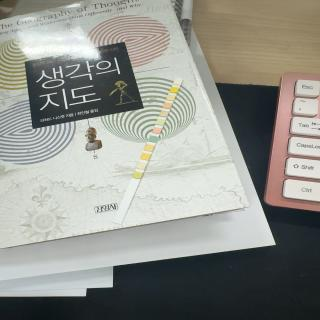mark: (152, 126, 161, 134), (140, 153, 150, 160), (144, 144, 154, 151), (133, 171, 142, 178), (148, 136, 158, 142), (137, 162, 145, 169), (156, 118, 164, 125), (160, 111, 168, 117), (164, 102, 171, 108), (167, 95, 175, 100), (171, 88, 178, 92), (174, 80, 181, 84)
